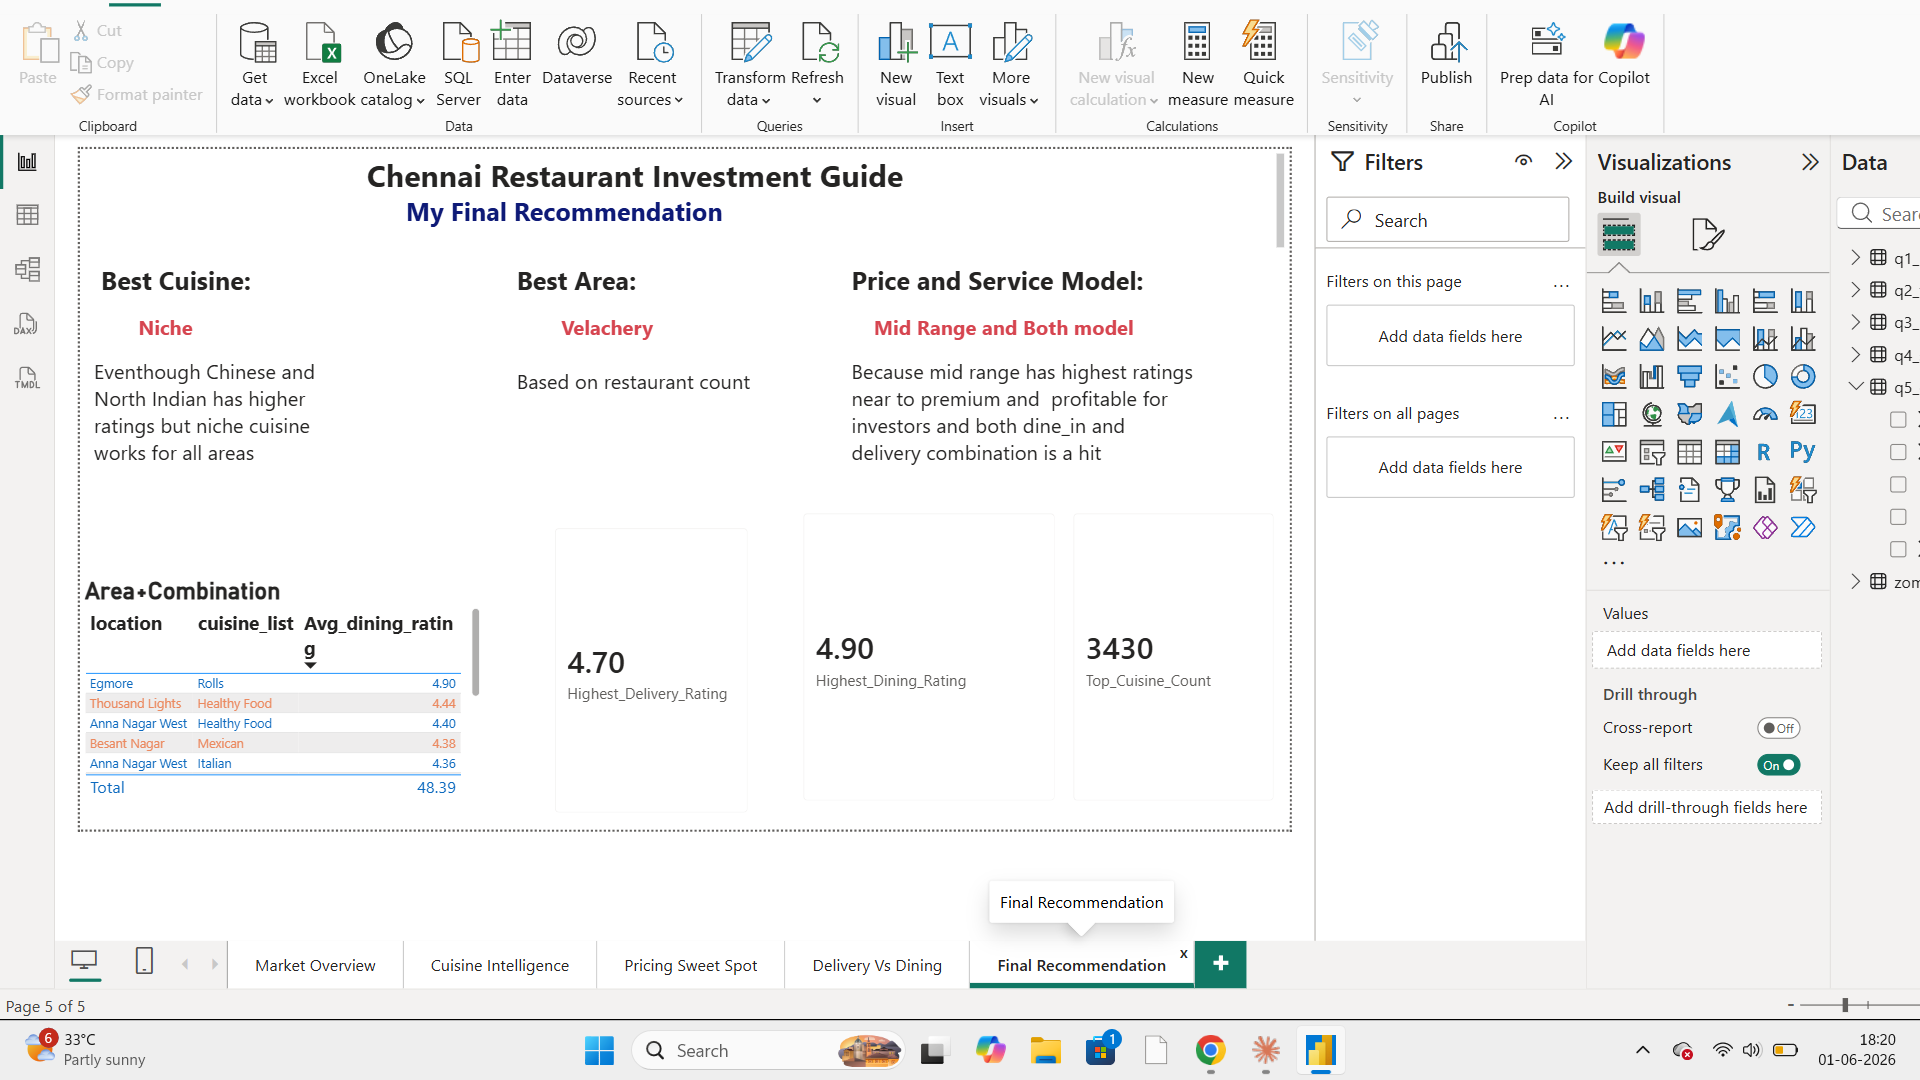

What the dashboard file says about the page in this screenshot:
{"tool":"powerbi","page":{"name":"Final Recommendation","canvas":[1280,720],"ordinal":4},"visuals":[{"type":"textbox","box":[10,0,280,280],"z":0},{"type":"textbox","box":[9.2,0,1270.8,115.4],"z":1000},{"type":"textbox","box":[9.6,115.3,279.9,244.3],"z":2000},{"type":"textbox","box":[456.9,115.3,406.2,211.3],"z":3000},{"type":"textbox","box":[811,115.3,373.2,244.3],"z":4000},{"type":"tableEx","title":"Area+Combination","fields":{"Values":["q5_cuisine_area_combo csv.location","q5_cuisine_area_combo csv.cuisine_list","Sum(q5_cuisine_area_combo csv.avg_dining_rating)"]},"box":[0,452.9,428.6,238.6],"z":5000},{"type":"cardVisual","fields":{"Data":["zomato_chennai_cleaned (2).Highest_Delivery_Rating"]},"box":[485.7,384.3,238.6,335.7],"z":6000},{"type":"cardVisual","fields":{"Data":["zomato_chennai_cleaned (2).Highest_Dining_Rating"]},"box":[749.2,369.2,300,338.5],"z":7000},{"type":"cardVisual","fields":{"Data":["q1_popular_cuisines csv.Top_Cuisine_Count"]},"box":[1033.8,369.2,246.2,338.5],"z":8000}]}

Visuals, with their boxes on the page's 1280x720 design canvas (x1, y1, x2, y2). These are canvas units, not pixel positions in the 1920x1080 screenshot, which may show the page scaled, cropped or inside an application window:
textbox: pyautogui.locateOnScreen(10, 0, 290, 280)
textbox: pyautogui.locateOnScreen(9, 0, 1280, 115)
textbox: pyautogui.locateOnScreen(10, 115, 290, 360)
textbox: pyautogui.locateOnScreen(457, 115, 863, 327)
textbox: pyautogui.locateOnScreen(811, 115, 1184, 360)
"Area+Combination" tableEx: pyautogui.locateOnScreen(0, 453, 429, 692)
cardVisual - zomato_chennai_cleaned (2).Highest_Delivery_Rating: pyautogui.locateOnScreen(486, 384, 724, 720)
cardVisual - zomato_chennai_cleaned (2).Highest_Dining_Rating: pyautogui.locateOnScreen(749, 369, 1049, 708)
cardVisual - q1_popular_cuisines csv.Top_Cuisine_Count: pyautogui.locateOnScreen(1034, 369, 1280, 708)
